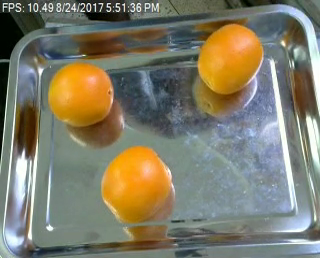Orange: (100, 144, 173, 223), (196, 22, 266, 95), (47, 61, 115, 126)
